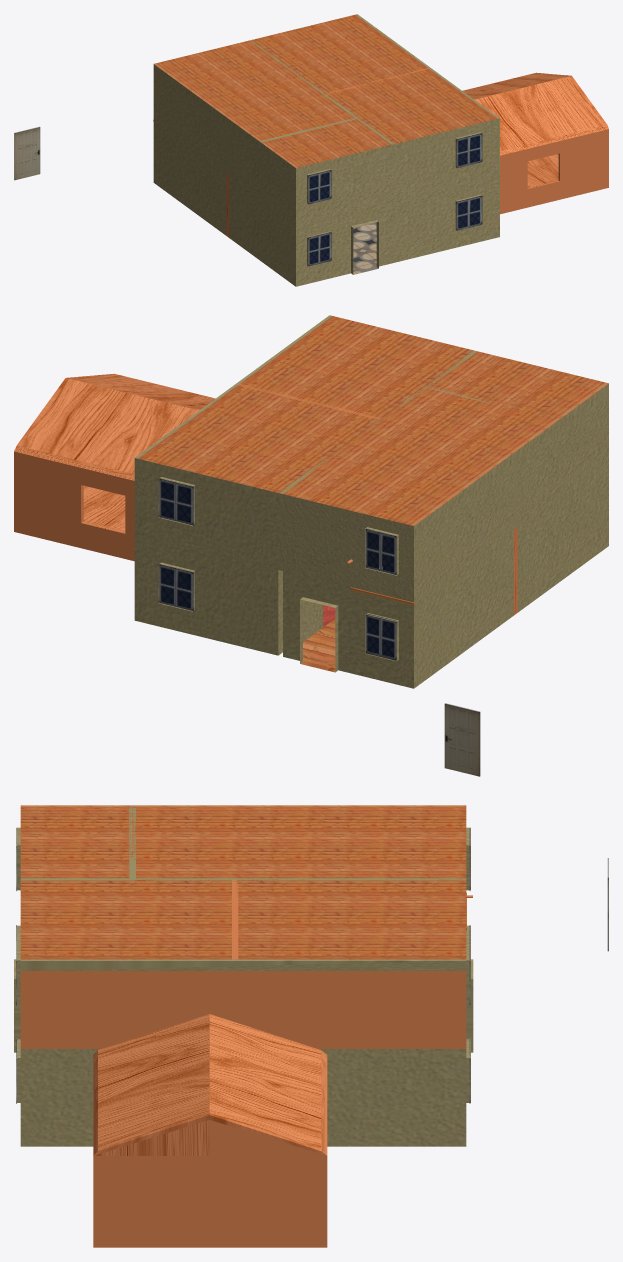
The model's file is farmHouseInside.fbx.
3 renders of one model, top to bottom at view 1: azimuth 30°, elevation 25°; view 2: azimuth 150°, elevation 25°; view 3: azimuth 270°, elevation 25°, orthographic. The views are drawn at different scales.
Visible parts, largest first — view 1: House, Door; view 2: House, Door; view 3: House.
Part boxes in pixels (x1=…): House: x1=153, y1=14, x2=608, y2=286; Door: x1=14, y1=126, x2=40, y2=180; House: x1=14, y1=315, x2=608, y2=688; Door: x1=444, y1=703, x2=480, y2=776; House: x1=14, y1=805, x2=473, y2=1247.
Size of the model in its own units: 5252 by 1478 by 4021.
